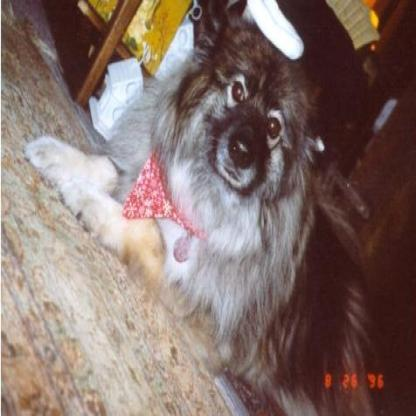keeshond: (21, 5, 387, 412)
